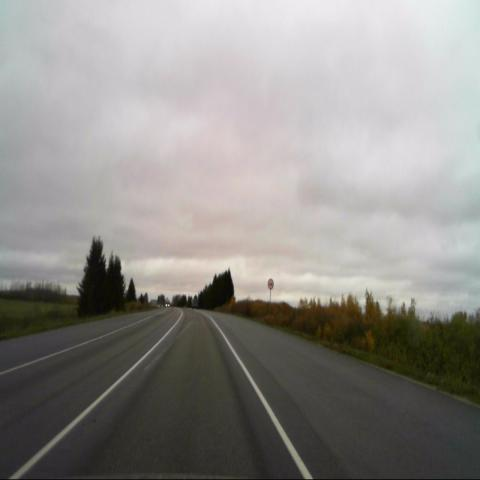3_20: (267, 277, 274, 289)
